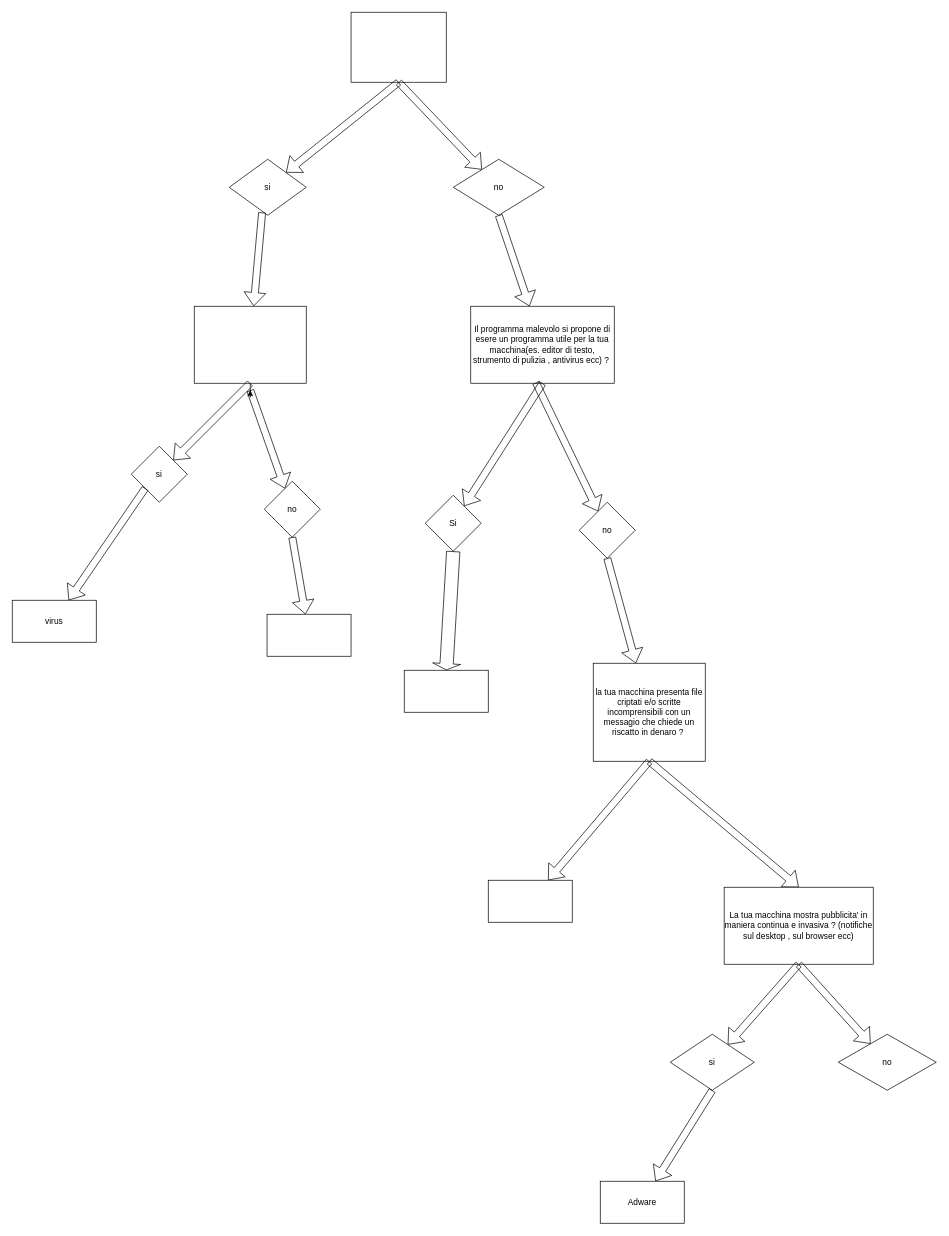
This 949x1236 diagram has some shape labels left out. Each missing label, with the centre of its shape:
hai notato piu' copie del file sospetto all'interno della tua macchina ?: (398,47)
Hai notato strani comportamenti nell'utilizzare software quotidiano ?: (250,344)
Ransomware: (530,901)
Trojan Horse: (446,691)
worm: (308,635)
